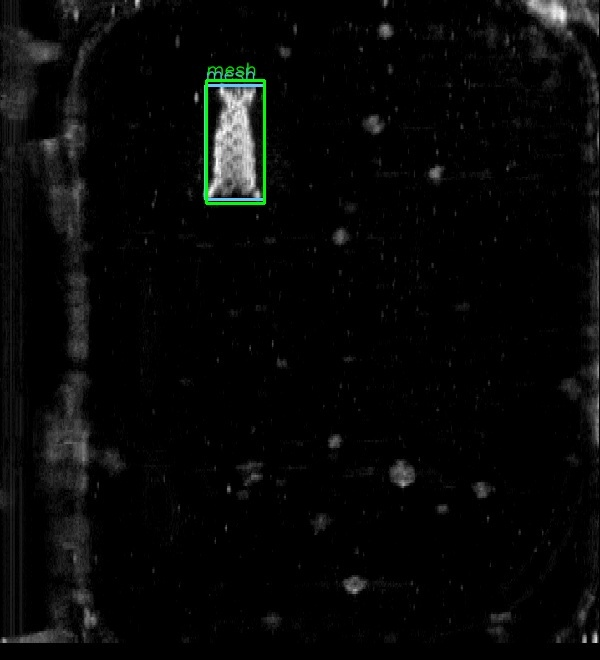mesh: (205, 85, 264, 199)
